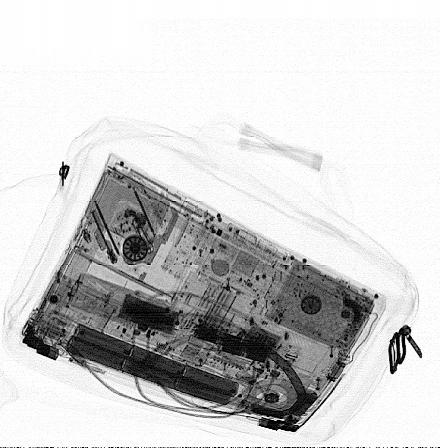Baton: (64, 270, 304, 373)
